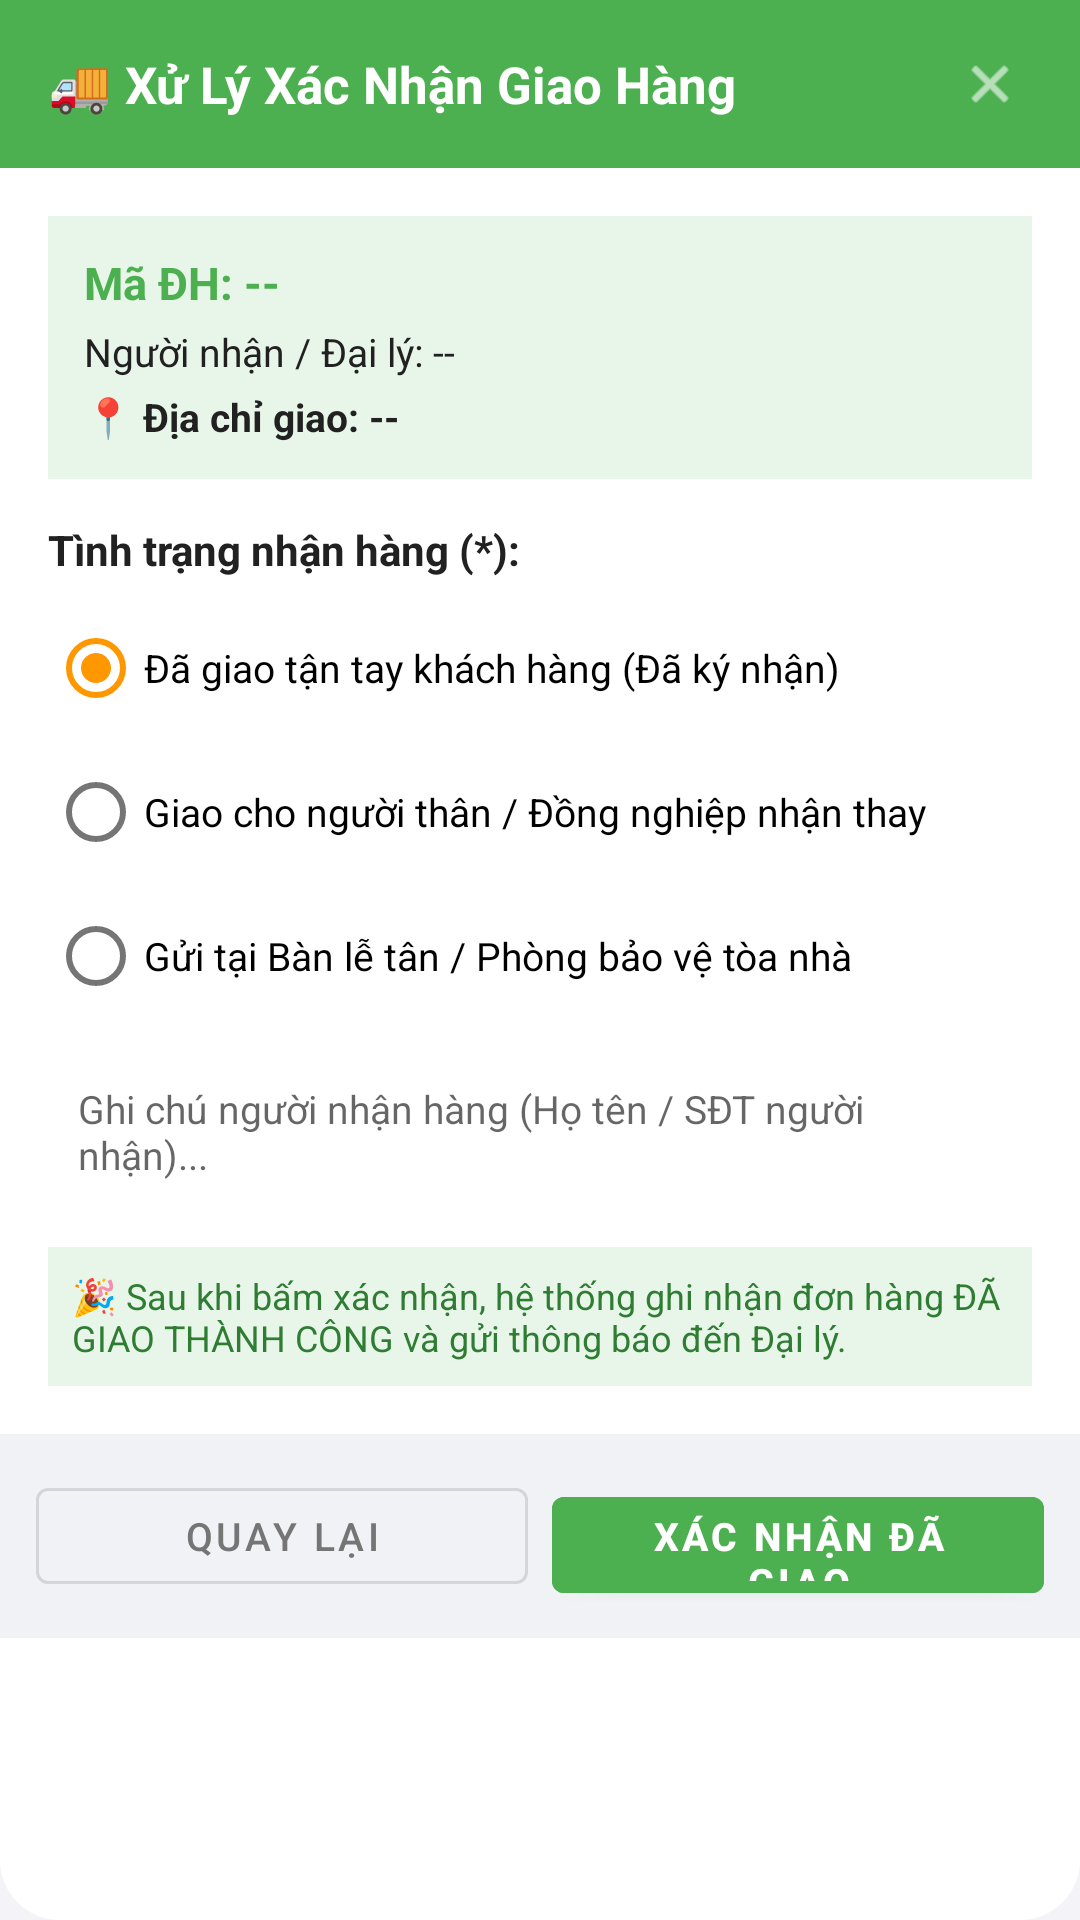

Screen size 1080 × 1920. Icon name, then its center in pixels as point (x, y):
Đóng: point (990, 84)
